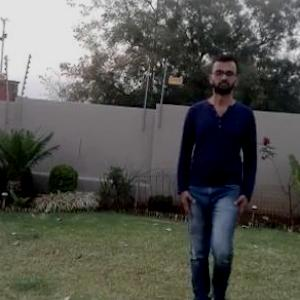follow: (178, 63, 250, 290)
